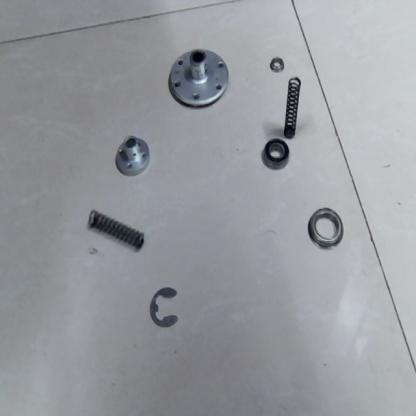FOD: (164, 44, 231, 110), (86, 206, 148, 252), (111, 131, 150, 178), (307, 206, 345, 252), (145, 285, 179, 331), (282, 74, 302, 137), (261, 135, 293, 169), (269, 56, 285, 73)
